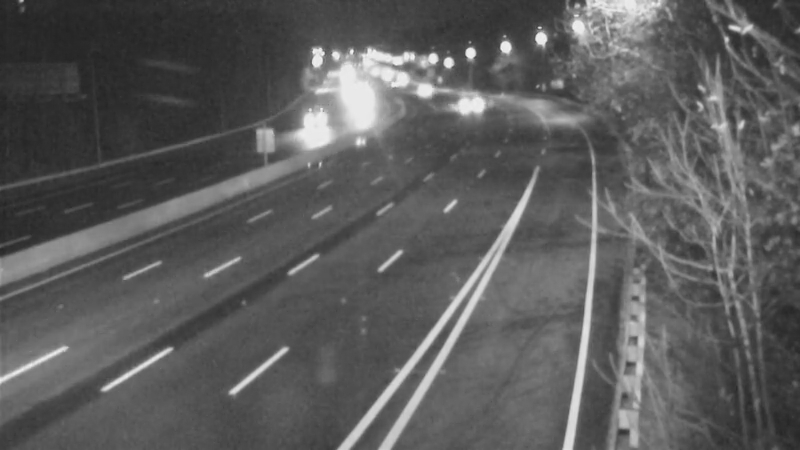vehicle: (397, 66, 447, 116), (442, 73, 492, 123), (286, 99, 336, 149), (331, 85, 381, 135)
